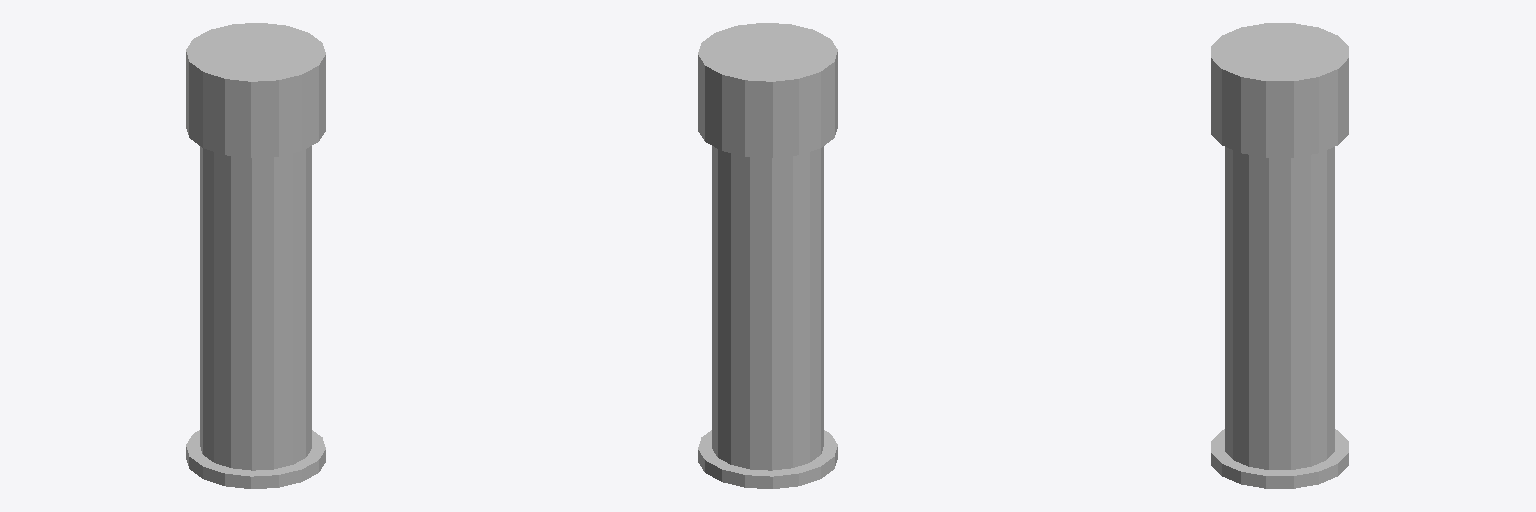
The model's file is pipeworks_fountainhead.obj.
3 renders of one model, left to right at view 1: azimuth 30°, elevation 25°; view 2: azimuth 150°, elevation 25°; view 3: azimuth 270°, elevation 25°, orthographic.
Visible parts, largest first — view 1: Cube.001; view 2: Cube.001; view 3: Cube.001.
Part boxes in pixels (x1,y1,x2,y2): Cube.001: (186, 23, 325, 488); Cube.001: (698, 23, 837, 488); Cube.001: (1211, 23, 1348, 488).
Size of the model in its own units: 0.3065 by 1 by 0.3065.